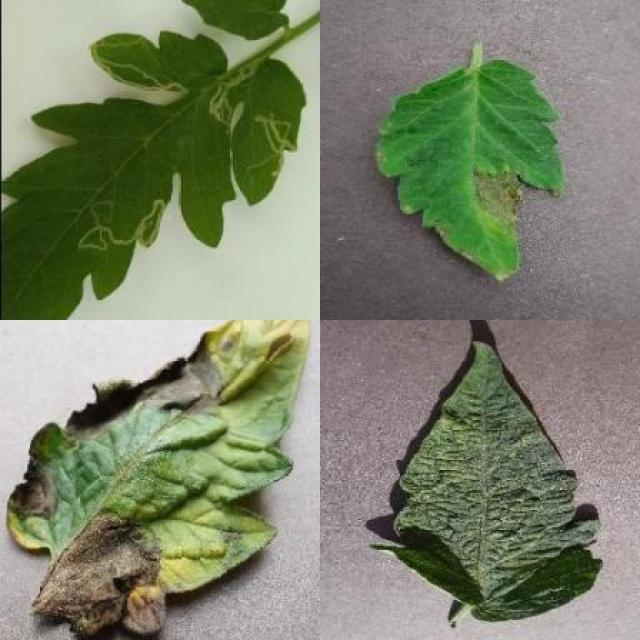Late Blight: (0, 320, 310, 640), (376, 58, 567, 282)
Leaf Miner: (0, 30, 309, 320)
Spider Mites: (376, 340, 603, 620)
